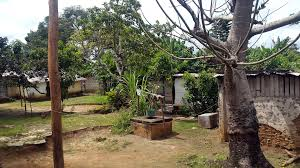forest: (9, 4, 293, 159)
tree: (168, 5, 293, 161), (28, 12, 144, 120)
